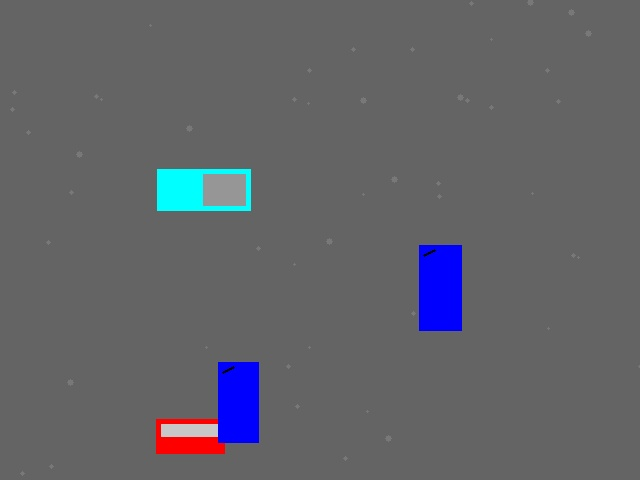car: (156, 419, 224, 453)
motorcycle: (419, 245, 461, 330), (218, 362, 258, 442)
truck: (157, 169, 250, 210)
